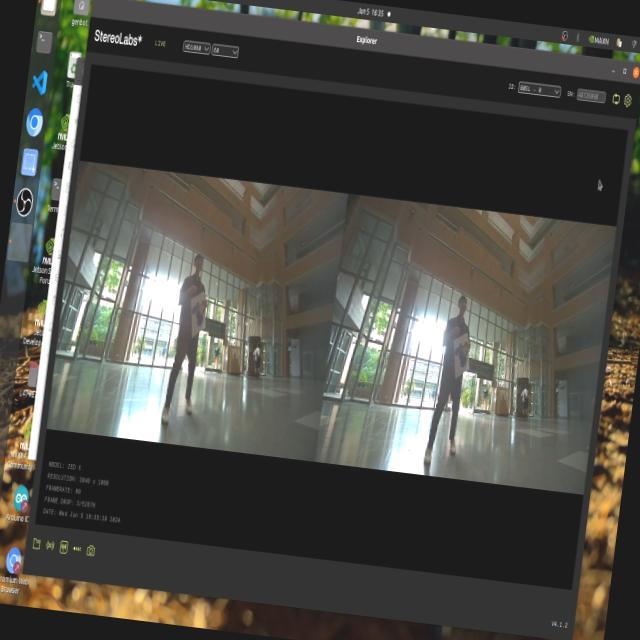blue: (188, 296, 213, 342), (448, 334, 472, 374)
